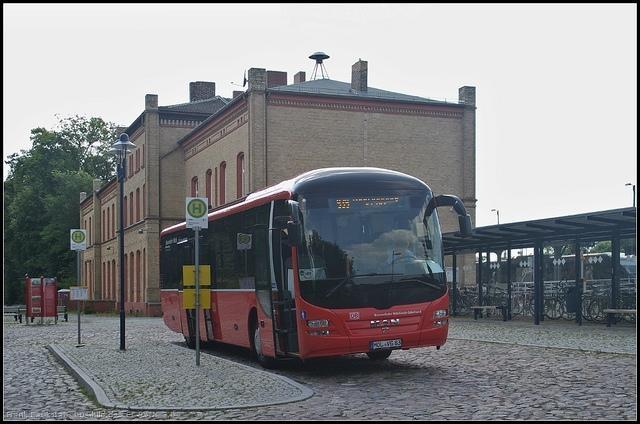bicycle: (588, 289, 636, 325), (580, 284, 608, 320), (510, 280, 534, 318), (542, 286, 566, 320), (558, 282, 578, 322), (456, 284, 478, 316), (480, 284, 500, 316), (491, 286, 508, 307)
bus: (160, 167, 474, 367)
